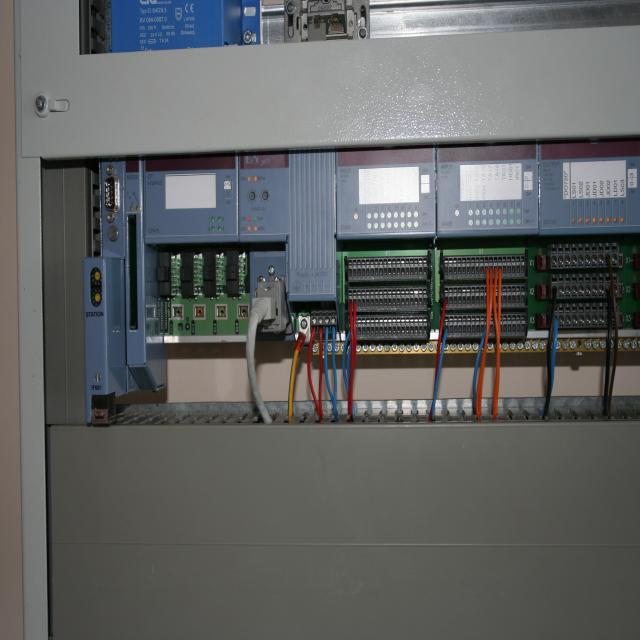SPS-System -Steuerungskomponente-: (437, 145, 538, 237), (538, 144, 640, 235), (336, 150, 437, 237), (238, 153, 336, 240), (141, 156, 238, 242)
Schaltkasten: (14, 0, 640, 640)
